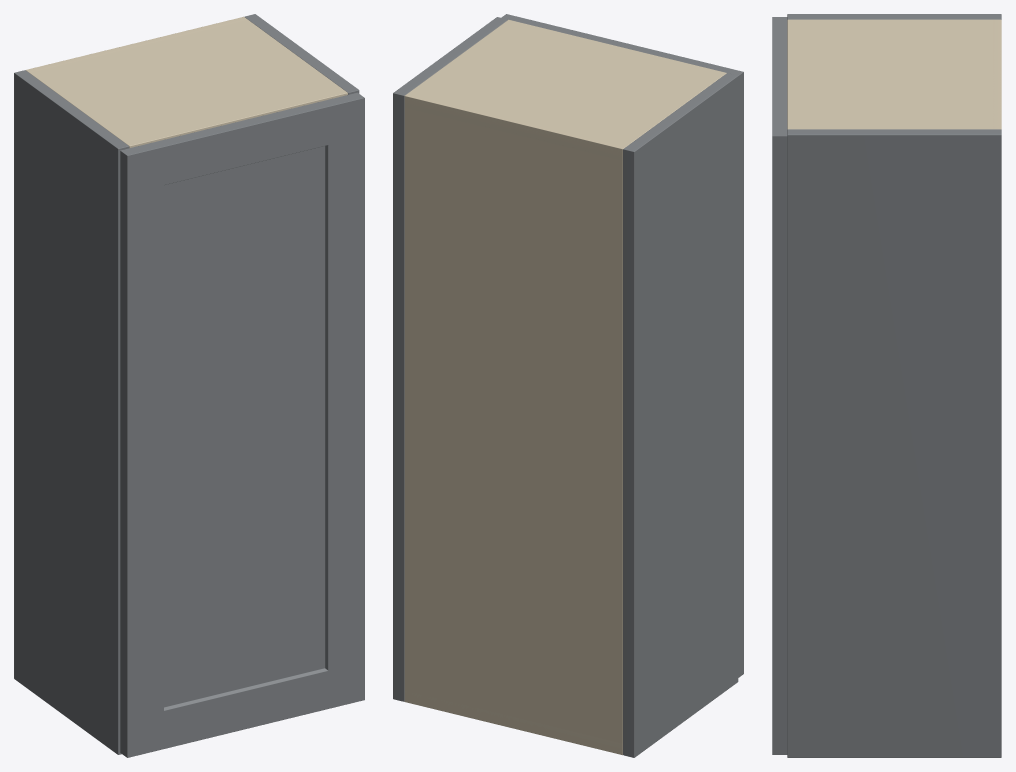
The model's file is oppein-ply-gss-w1536.glb.
The picture shows the model from 3 angles, left to right: view 1: azimuth 30°, elevation 25°; view 2: azimuth 150°, elevation 25°; view 3: azimuth 270°, elevation 25°; orthographic projection. The views are drawn at different scales.
Visible parts, largest first — view 1: Door, Cabinet side, Cabinet top, Cabinet side.001, Cabinet back; view 2: Cabinet back, Cabinet side, Cabinet top, Cabinet side.001, Door, Cabinet bottom; view 3: Cabinet side.001, Cabinet top, Door, Cabinet side, Cabinet back.
Boxes of the visible parts, left/top/right/bottom form: Door: left=120, top=92, right=364, bottom=757; Cabinet side: left=14, top=70, right=129, bottom=754; Cabinet top: left=26, top=19, right=347, bottom=148; Cabinet side.001: left=244, top=14, right=359, bottom=94; Cabinet back: left=26, top=17, right=247, bottom=72; Cabinet back: left=404, top=93, right=626, bottom=754; Cabinet side: left=623, top=73, right=738, bottom=757; Cabinet top: left=405, top=19, right=726, bottom=160; Cabinet side.001: left=393, top=17, right=507, bottom=701; Door: left=501, top=14, right=743, bottom=677; Cabinet bottom: left=405, top=691, right=622, bottom=755; Cabinet side.001: left=787, top=129, right=1001, bottom=757; Cabinet top: left=787, top=19, right=1001, bottom=129; Door: left=772, top=17, right=787, bottom=754; Cabinet side: left=787, top=14, right=1001, bottom=19; Cabinet back: left=993, top=19, right=1001, bottom=129.
Size of the model in its own units: 0.381 by 0.9144 by 0.3048.
